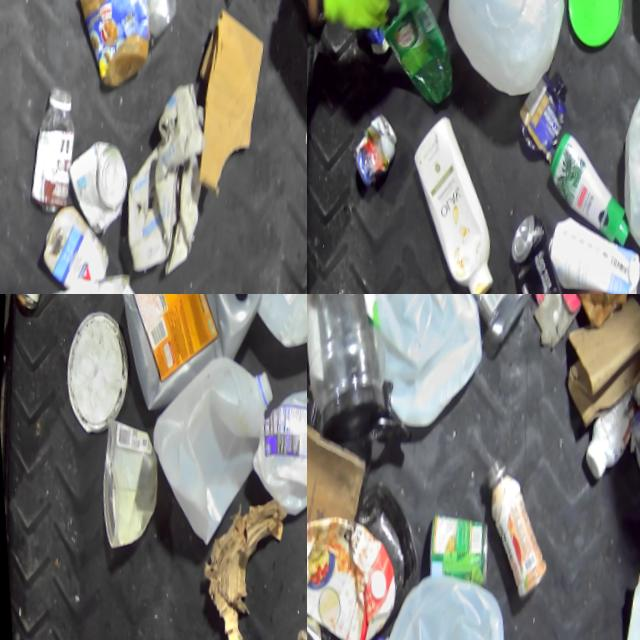can: (55, 141, 127, 233), (492, 211, 569, 294), (419, 512, 486, 587), (342, 100, 397, 189)
milk_jug: (130, 345, 281, 550), (359, 294, 490, 417), (421, 0, 569, 86), (362, 569, 509, 640), (244, 376, 307, 516), (601, 45, 640, 243), (4, 266, 152, 294)
non_white_jug: (101, 294, 266, 418)
